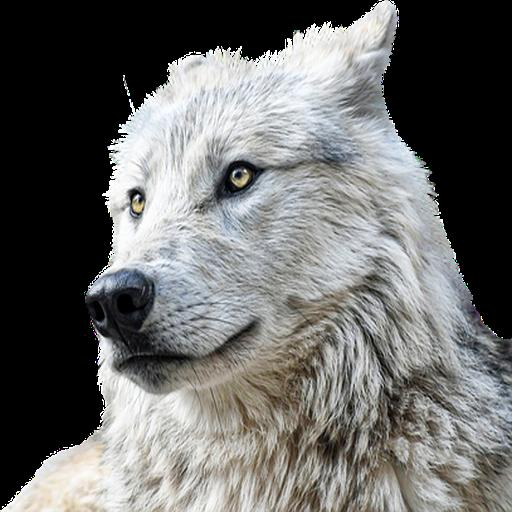Wolf: (0, 0, 512, 509)
